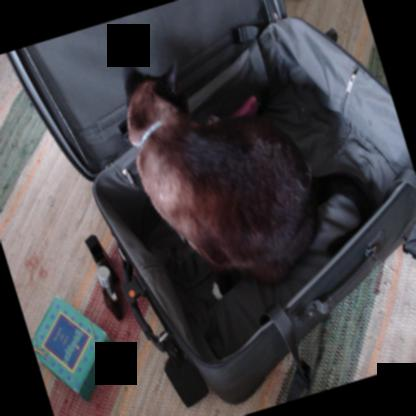suitcase: (8, 0, 416, 399)
